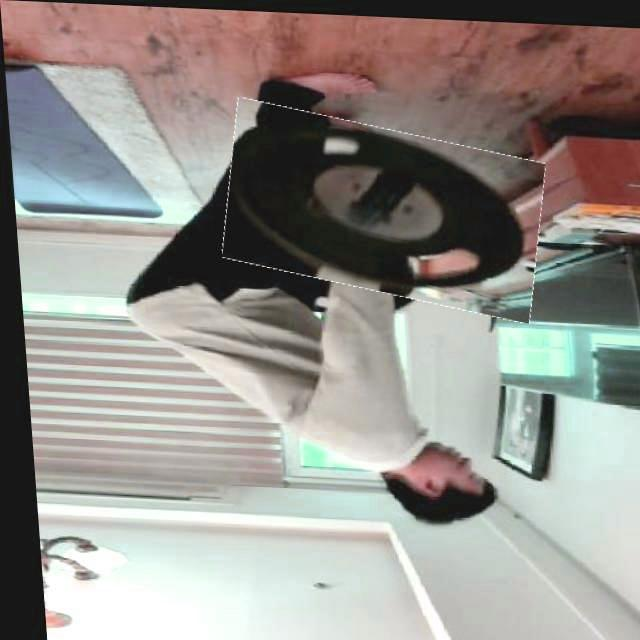barbell: (216, 108, 545, 307)
